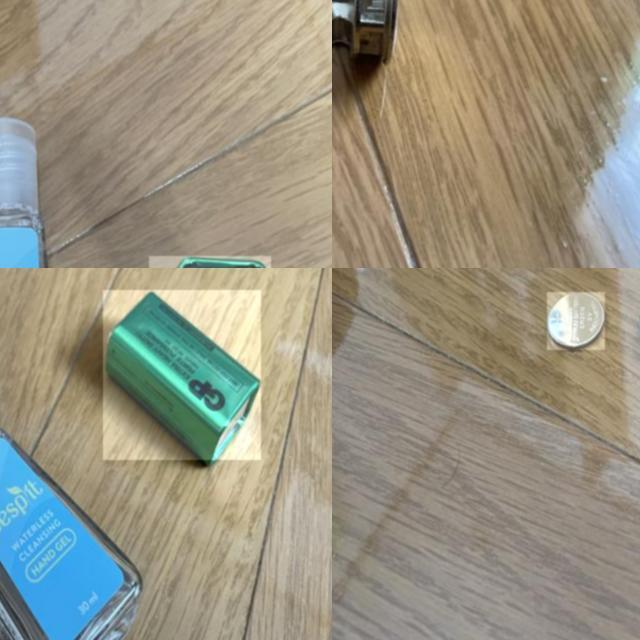9V: (104, 290, 262, 461)
